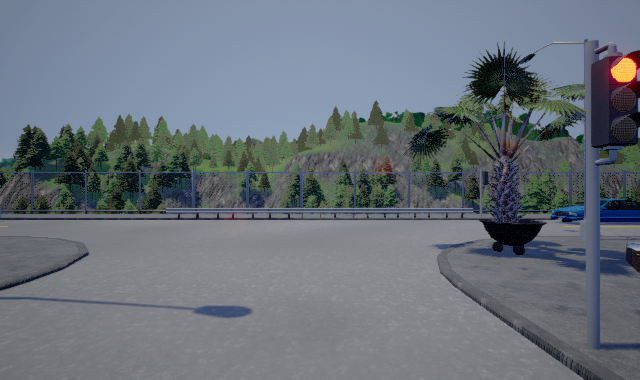traffic_light: (591, 42, 640, 166)
vehicle: (550, 198, 640, 222)
